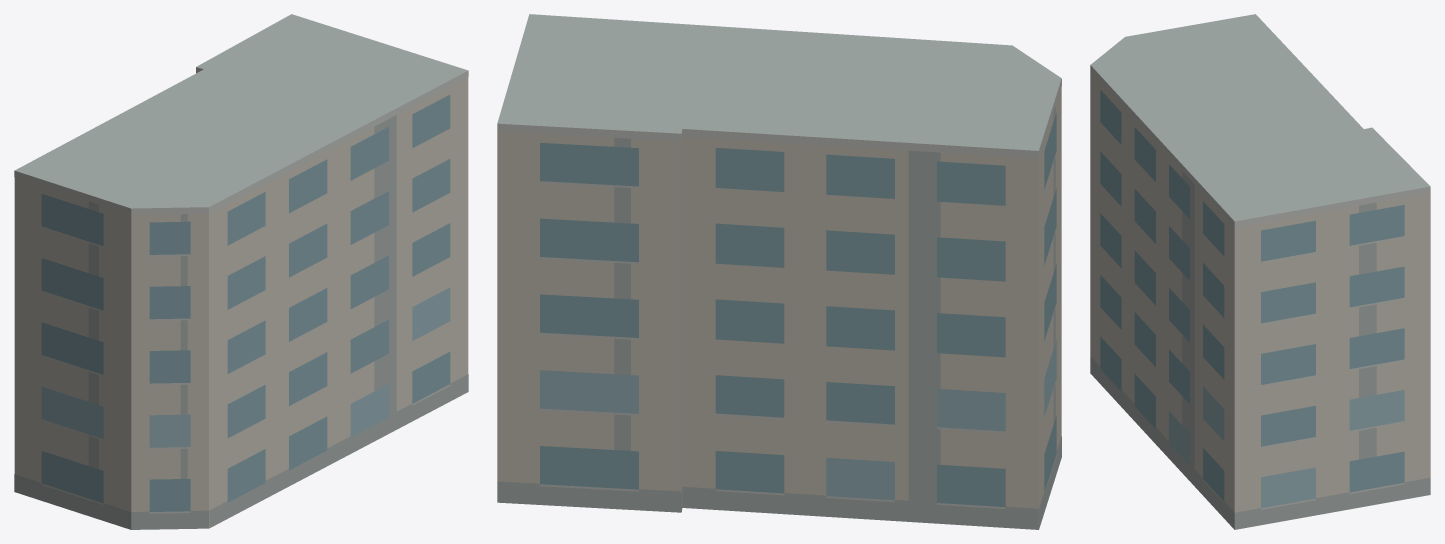
The model's file is survey-upis-32861135.glb.
3 renders of one model, left to right at view 1: azimuth 30°, elevation 25°; view 2: azimuth 150°, elevation 25°; view 3: azimuth 270°, elevation 25°, orthographic. The views are drawn at different scales.
Parts seen in each view (by area): view 1: survey-upis-32861135.tmp; view 2: survey-upis-32861135.tmp; view 3: survey-upis-32861135.tmp.
Boxes of the visible parts, left/top/right/bottom form: survey-upis-32861135.tmp: left=14, top=14, right=468, bottom=529; survey-upis-32861135.tmp: left=497, top=14, right=1061, bottom=529; survey-upis-32861135.tmp: left=1090, top=14, right=1430, bottom=529.
Bounding box in the file's own units: 17.18 × 11.9 × 11.91.
